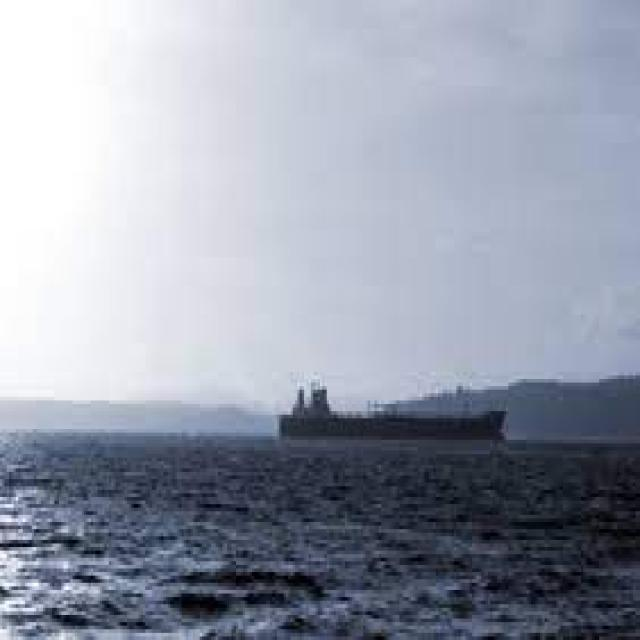cargoship: (279, 373, 509, 444)
